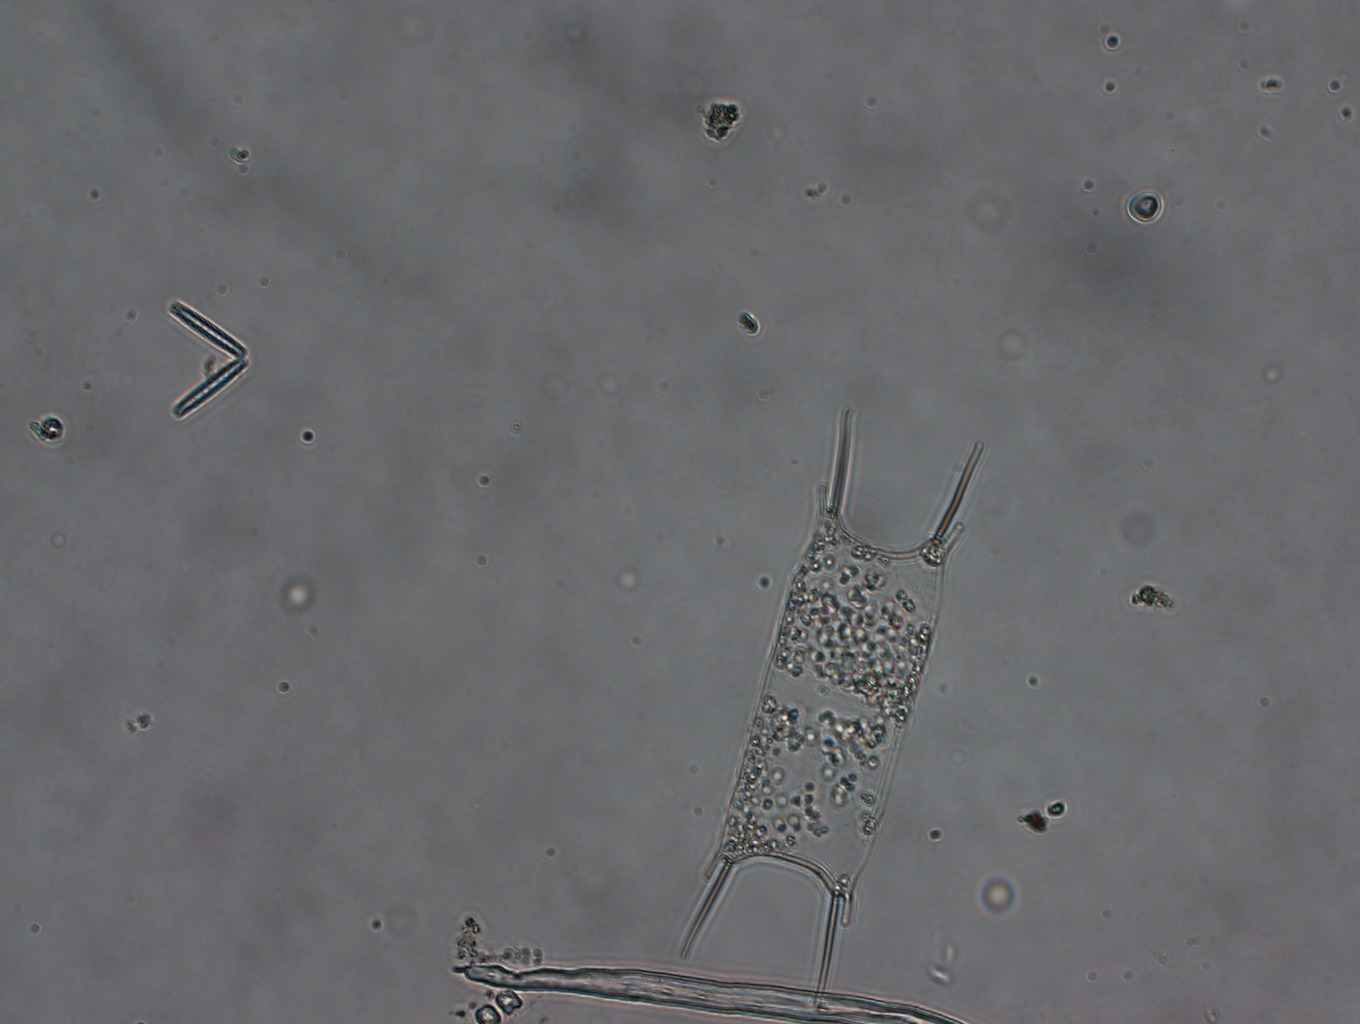biddulphia: (677, 406, 985, 991)
thalassionema nitzschioides: (166, 300, 249, 419)
